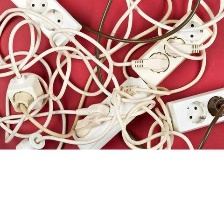three_eye_plug: (130, 6, 214, 89), (70, 77, 157, 153), (3, 0, 81, 50), (163, 84, 224, 137), (4, 69, 48, 119)
